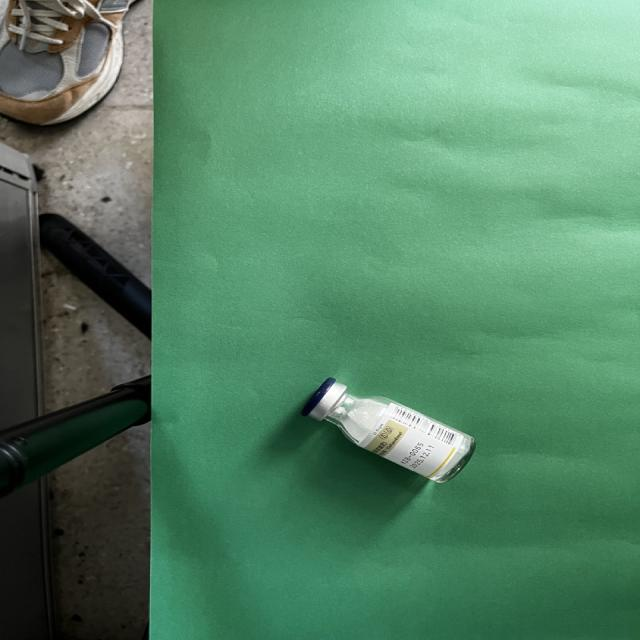Vials: (303, 378, 474, 482)
